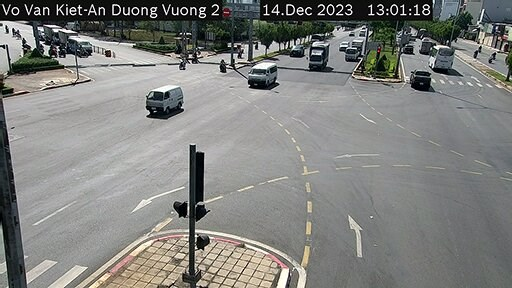car: (238, 56, 281, 98), (137, 86, 183, 122), (433, 43, 455, 74), (412, 67, 431, 98), (290, 44, 309, 64)
truck: (305, 37, 327, 81), (339, 43, 359, 67)
